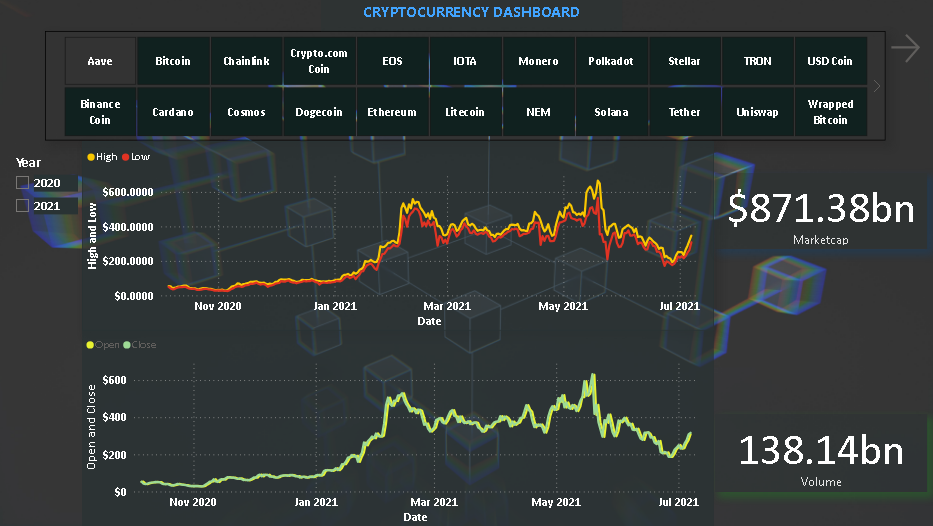

The dashboard page shown, as its layout file describes it:
{"tool":"powerbi","page":{"name":"Page 1","canvas":[1280,720],"ordinal":0},"visuals":[{"type":"slicer","fields":{"Values":["archive__5.Name"]},"box":[68,43.9,1143.8,148.8],"z":0},{"type":"slicer","fields":{"Values":["archive__5.Year"]},"box":[15.6,204.1,103.5,333.1],"z":1000},{"type":"lineChart","title":"High and Low","fields":{"Category":["archive__5.Date"],"Y":["archive__5.High","archive__5.Low"]},"box":[119,192.8,860.3,257.9],"z":2000},{"type":"actionButton","box":[1196,0,84,153],"z":3000},{"type":"card","fields":{"Values":["archive__5.Marketcap"]},"box":[979.4,236.7,289.1,103.5],"z":4000},{"type":"card","fields":{"Values":["archive__5.Volume"]},"box":[979.4,565.5,289.1,106.3],"z":5000},{"type":"lineChart","fields":{"Category":["archive__5.Date"],"Y":["archive__5.Open","archive__5.Close"]},"box":[119,450.7,860.3,269.3],"z":6000},{"type":"textbox","box":[443.6,0,409.6,43.9],"z":6001}]}

Visuals, with their boxes in screenshot pixels (x1, y1, x2, y2), scaled from the page's 1280x720 canvas onto the 933x526 screenshot:
slicer - archive__5.Name: x1=50, y1=32, x2=883, y2=141
slicer - archive__5.Year: x1=11, y1=149, x2=87, y2=392
"High and Low" lineChart: x1=87, y1=141, x2=714, y2=329
actionButton: x1=872, y1=0, x2=932, y2=112
card - archive__5.Marketcap: x1=714, y1=173, x2=925, y2=249
card - archive__5.Volume: x1=714, y1=413, x2=925, y2=491
lineChart - archive__5.Date x archive__5.Open: x1=87, y1=329, x2=714, y2=525
textbox: x1=323, y1=0, x2=622, y2=32
